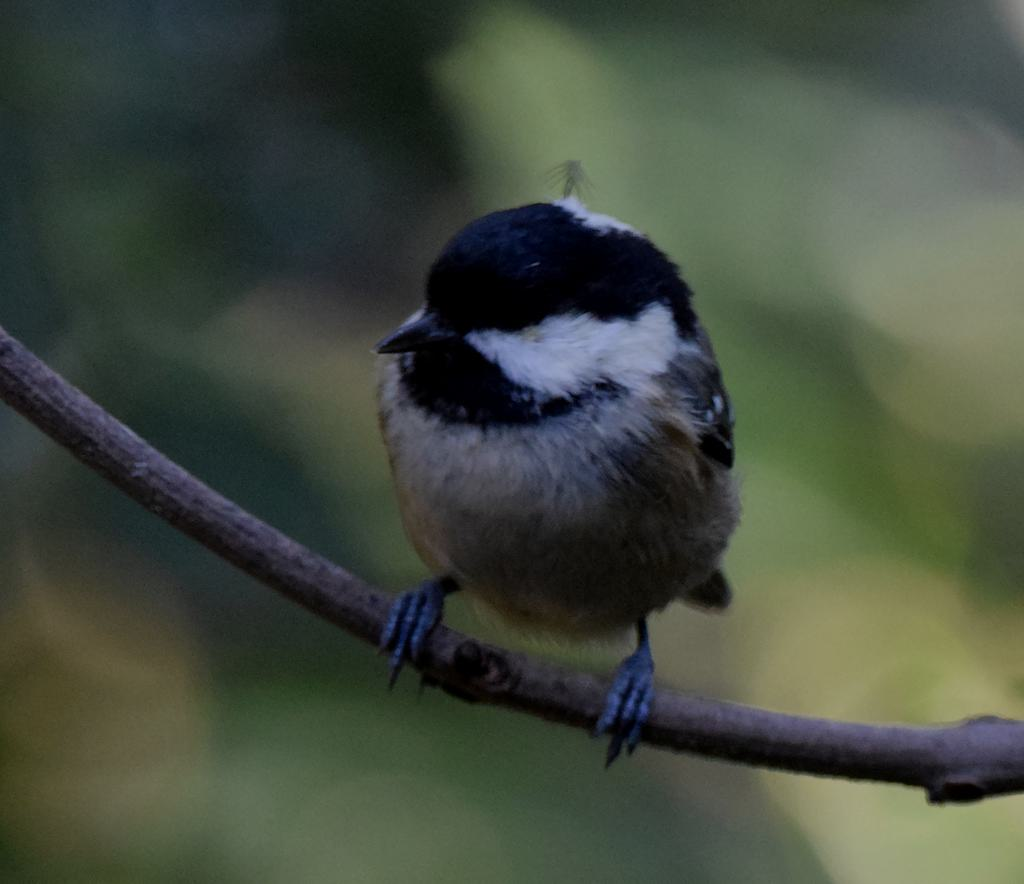PeriparusAter: (371, 196, 744, 774)
